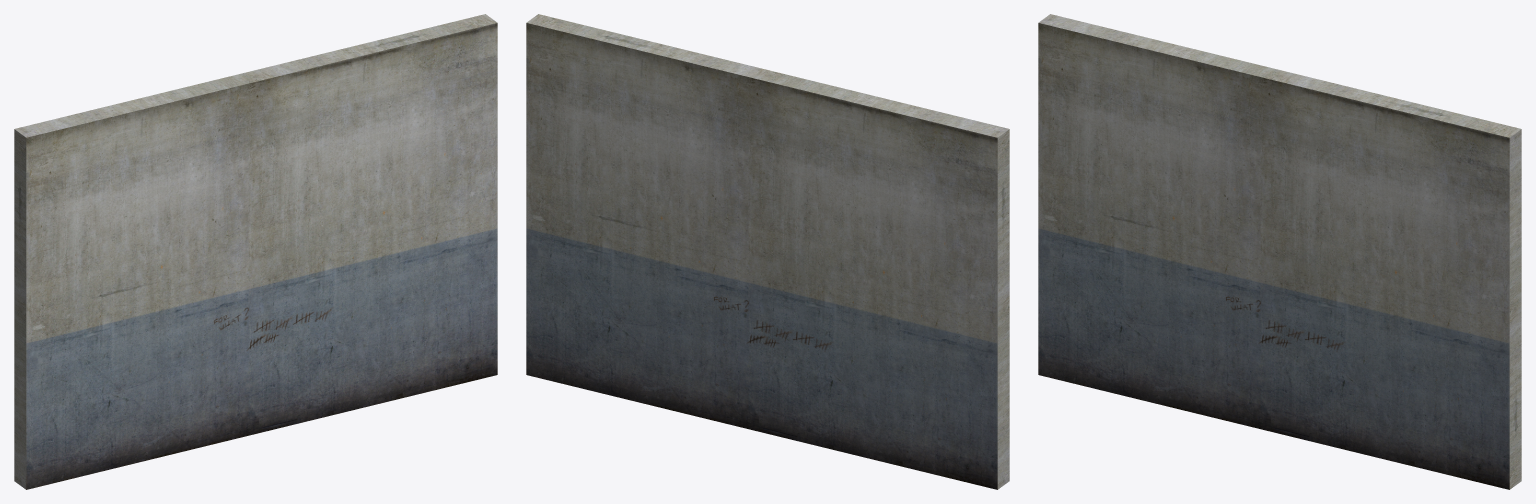
Rendered from Wall 1.FBX.
The picture shows the model from 3 angles, left to right: view 1: azimuth 30°, elevation 25°; view 2: azimuth 150°, elevation 25°; view 3: azimuth 330°, elevation 25°; orthographic projection.
Visible parts, largest first — view 1: Wall 1; view 2: Wall 1; view 3: Wall 1.
Boxes of the visible parts, x1,y1,x2,y2 form: Wall 1: (14, 14, 497, 489); Wall 1: (526, 14, 1009, 489); Wall 1: (1038, 14, 1521, 489).
Bounding box in the file's own units: 159 × 113 × 7.05.
Materials: 1 (1 with a texture image).
